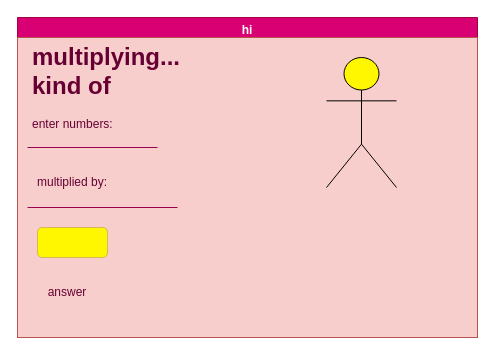
This 495x355 diagram has some shape labels left out. Each missing label, with the centre of its shape:
"Actor" belongs at (361,122).
"button" belongs at (72,242).
